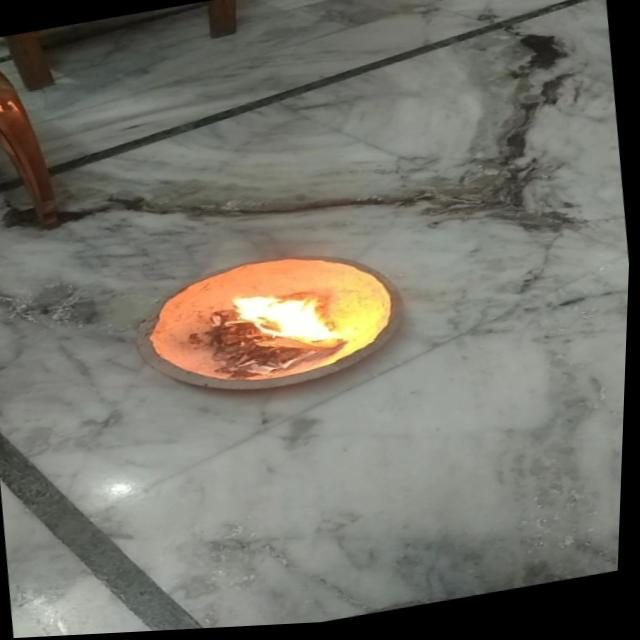fire: (228, 278, 344, 365)
